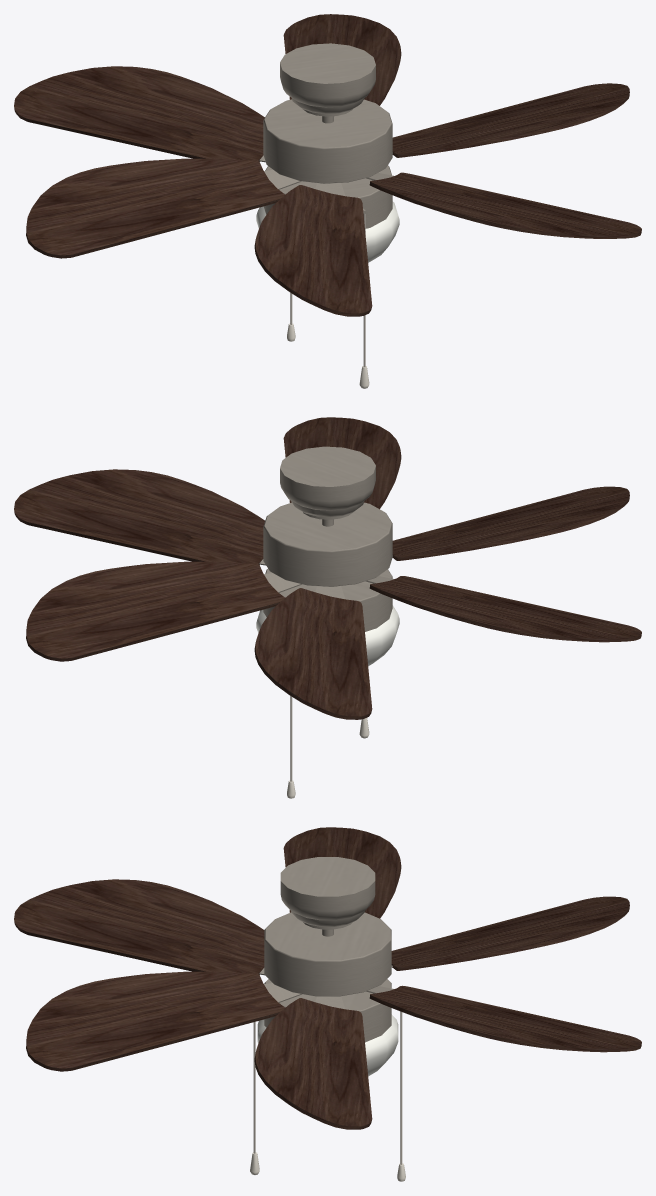
File: Fan.fbx
3 views of the same model, one above another, from view 1: azimuth 30°, elevation 25°; view 2: azimuth 150°, elevation 25°; view 3: azimuth 270°, elevation 25° (orthographic).
Visible parts, largest first — view 1: polySurface617; view 2: polySurface617; view 3: polySurface617.
Boxes of the visible parts, bbox=[...] form: polySurface617: bbox=[14, 14, 641, 388]; polySurface617: bbox=[14, 417, 641, 798]; polySurface617: bbox=[14, 827, 641, 1181].
Size of the model in its own units: 490 by 234 by 439.
